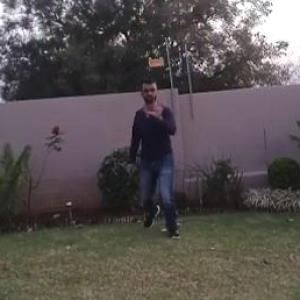follow_hand: (145, 92, 167, 124)
